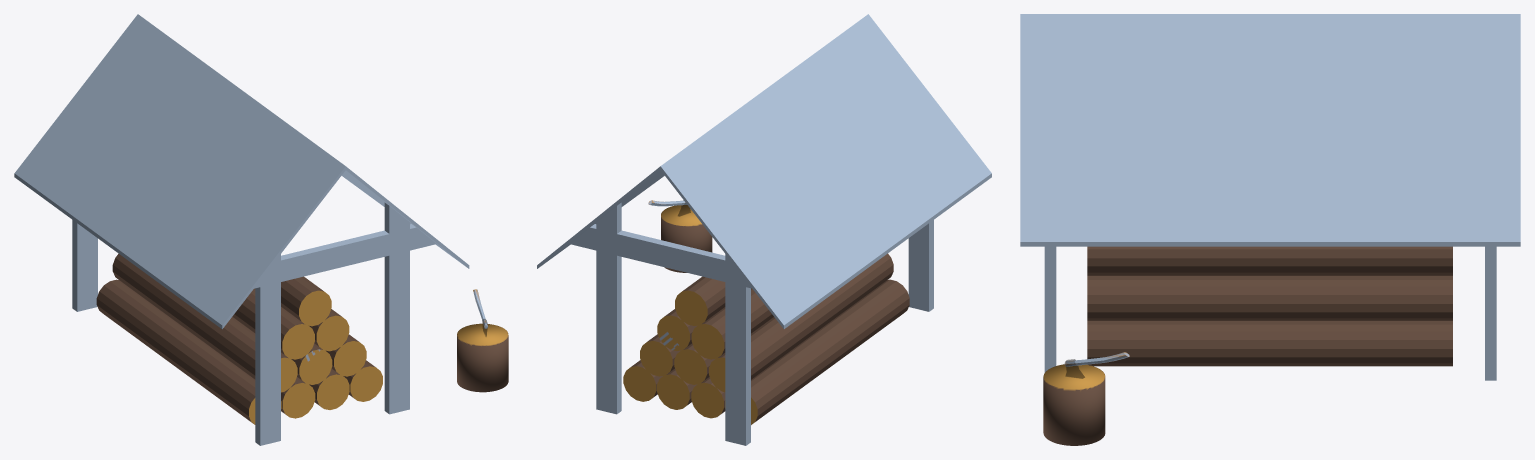
The model's file is sawmill_winter.glb.
3 renders of one model, left to right at view 1: azimuth 30°, elevation 25°; view 2: azimuth 150°, elevation 25°; view 3: azimuth 270°, elevation 25°, orthographic. The views are drawn at different scales.
Visible parts, largest first — view 1: Cube; view 2: Cube; view 3: Cube.
Boxes of the visible parts, x1,y1,x2,y2 form: Cube: [14, 14, 508, 445]; Cube: [537, 14, 991, 445]; Cube: [1020, 14, 1520, 445].
Size of the model in its own units: 2.97 by 2.51 by 3.5.
4 materials, 4 textured.
